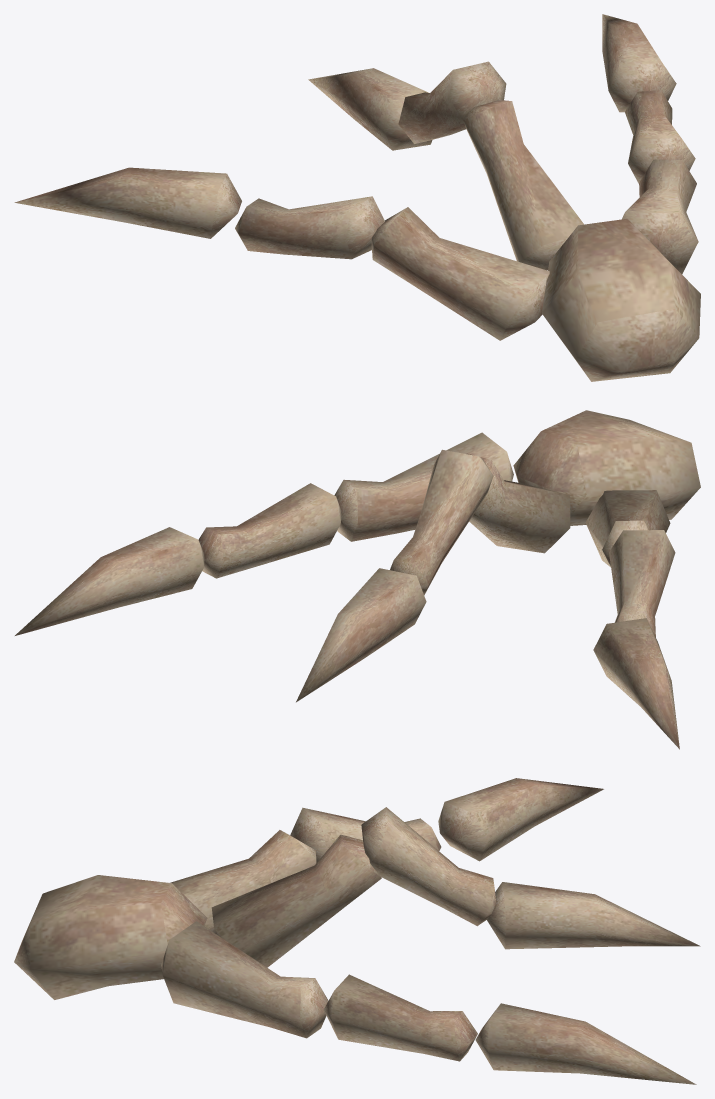
The model's file is OZ_06_hd_born01C.glb.
3 renders of one model, top to bottom at view 1: azimuth 30°, elevation 25°; view 2: azimuth 150°, elevation 25°; view 3: azimuth 270°, elevation 25°, orthographic. The views are drawn at different scales.
Visible parts, largest first — view 1: OM_06_hd_born01C; view 2: OM_06_hd_born01C; view 3: OM_06_hd_born01C.
Part boxes in pixels (x1,y1,x2,y2): OM_06_hd_born01C: (14,14,700,381); OM_06_hd_born01C: (15,410,700,749); OM_06_hd_born01C: (14,778,700,1084).
Size of the model in its own units: 4.4 by 1.22 by 4.35.
Materials: 1 (1 with a texture image).
